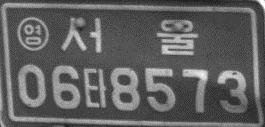0: (16, 63, 46, 108)
3: (216, 69, 248, 113)
5: (143, 67, 175, 112)
6: (50, 64, 80, 110)
7: (180, 68, 209, 114)
8: (109, 66, 140, 111)
서울_D: (60, 16, 199, 56)
영: (15, 15, 49, 52)
타: (82, 66, 107, 109)
